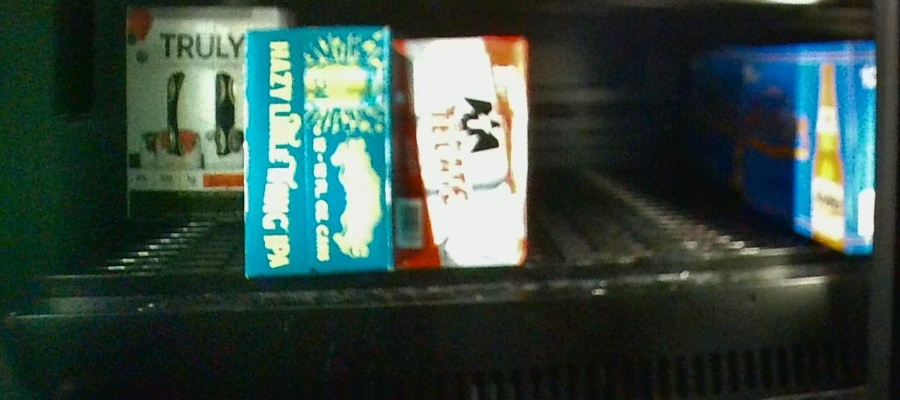bottle: (244, 25, 394, 274), (394, 35, 528, 271), (123, 4, 246, 221)
